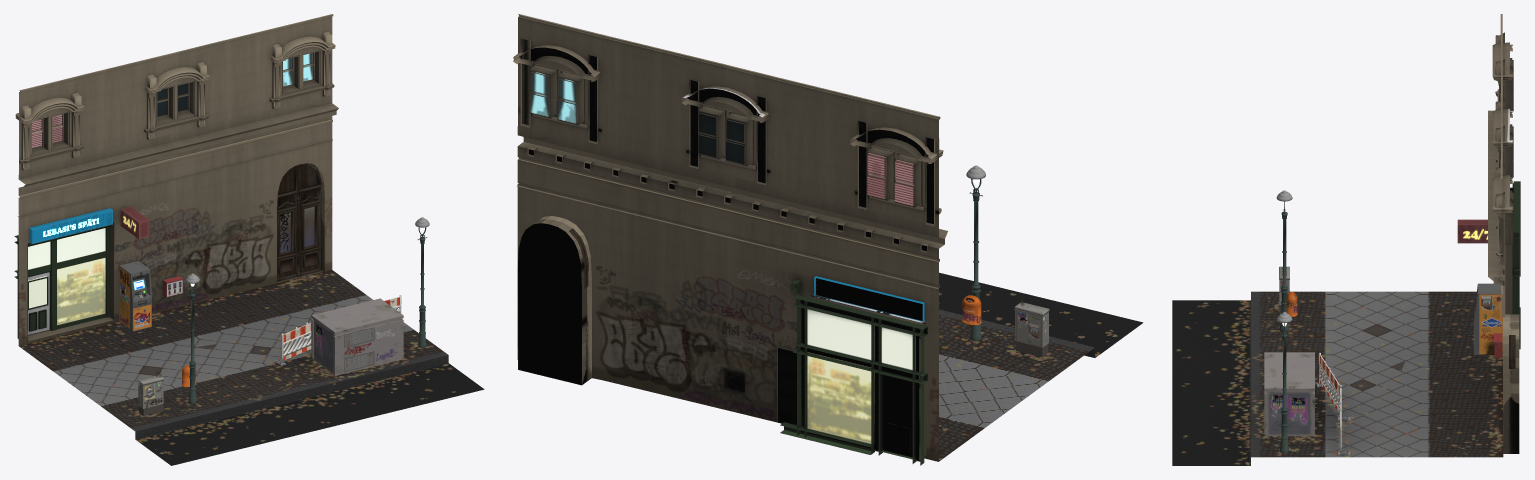
The picture shows the model from 3 angles, left to right: view 1: azimuth 30°, elevation 25°; view 2: azimuth 150°, elevation 25°; view 3: azimuth 270°, elevation 25°; orthographic projection. The views are drawn at different scales.
Parts seen in each view (by area): view 1: Object_8, Object_2, Object_4, Object_7, Object_9, Object_14, Object_12, Object_10; view 2: Object_8, Object_2, Object_10, Object_14; view 3: Object_2, Object_8, Object_4, Object_9, Object_14, Object_12.
Boxes of the visible parts, x1,y1,x2,y2 form: Object_8: (14, 14, 338, 345); Object_2: (19, 270, 484, 465); Object_4: (311, 298, 403, 375); Object_7: (277, 163, 322, 281); Object_9: (119, 261, 151, 331); Object_14: (185, 217, 429, 403); Object_12: (281, 295, 401, 362); Object_10: (138, 375, 163, 415); Object_8: (513, 14, 947, 465); Object_2: (939, 272, 1143, 461); Object_10: (1014, 302, 1049, 357); Object_14: (966, 165, 985, 340); Object_2: (1172, 291, 1503, 465); Object_8: (1457, 14, 1520, 453); Object_4: (1264, 352, 1314, 436); Object_9: (1473, 283, 1502, 354); Object_14: (1276, 190, 1292, 453); Object_12: (1319, 352, 1341, 451).
Size of the model in its own units: 9.38 by 7.55 by 8.32.
Materials: 13 (13 with a texture image).
